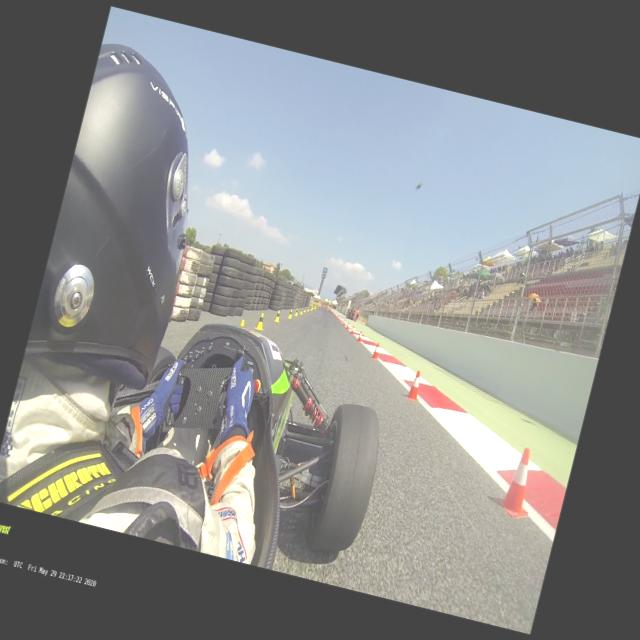orange_cone: (494, 444, 544, 520), (404, 369, 424, 402), (370, 342, 380, 360), (356, 330, 362, 342), (350, 327, 354, 335), (345, 324, 349, 331), (342, 320, 346, 326), (337, 316, 339, 321), (339, 318, 341, 322)
yellow_cone: (254, 312, 266, 329), (274, 309, 282, 322), (286, 308, 292, 318), (294, 308, 298, 316), (240, 319, 244, 326), (299, 308, 303, 314), (302, 306, 306, 312), (306, 306, 310, 311), (310, 306, 312, 310)
